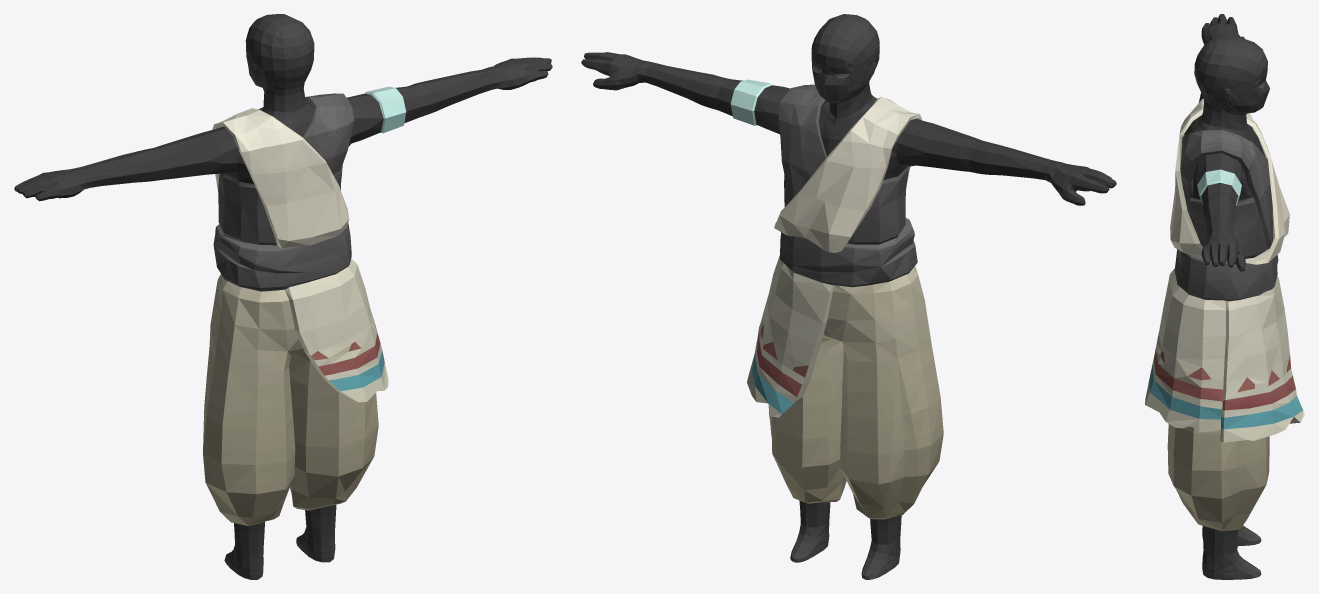
File: NPC_AP21LinenPants.glb
The picture shows the model from 3 angles, left to right: view 1: azimuth 30°, elevation 25°; view 2: azimuth 150°, elevation 25°; view 3: azimuth 270°, elevation 25°; orthographic projection. The views are drawn at different scales.
Parts seen in each view (by area): view 1: NPC_AP21LinenPants; view 2: NPC_AP21LinenPants; view 3: NPC_AP21LinenPants.
Boxes of the visible parts, bbox=[...] form: NPC_AP21LinenPants: bbox=[14, 14, 552, 579]; NPC_AP21LinenPants: bbox=[581, 14, 1116, 579]; NPC_AP21LinenPants: bbox=[1145, 14, 1304, 579].
Bounding box in the file's own units: 14.03 × 13.68 × 3.82.
1 material, 1 textured.
